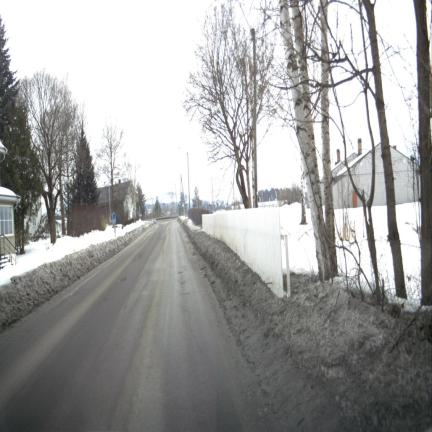Road: (0, 222, 273, 430)
